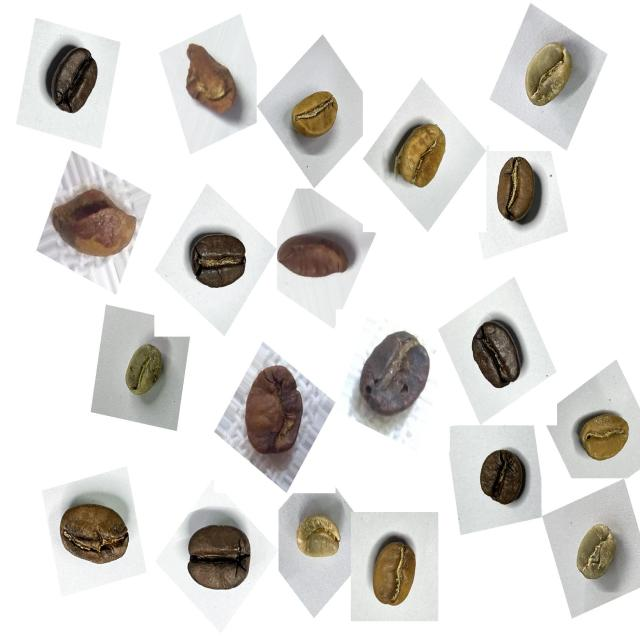bad: (353, 319, 441, 428), (233, 355, 317, 469), (45, 176, 141, 271), (278, 215, 361, 295), (176, 34, 248, 126)
dark: (179, 511, 262, 607), (39, 34, 112, 126), (459, 310, 531, 400), (184, 224, 258, 305)
green: (514, 33, 586, 123), (565, 516, 627, 595), (112, 336, 174, 410), (287, 504, 349, 572)
light: (362, 528, 432, 622), (386, 113, 460, 201), (568, 398, 636, 472), (286, 80, 351, 155)
medium: (50, 490, 141, 582), (486, 148, 550, 234), (470, 439, 534, 516)
